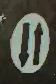Two way: (9, 9, 53, 75)
